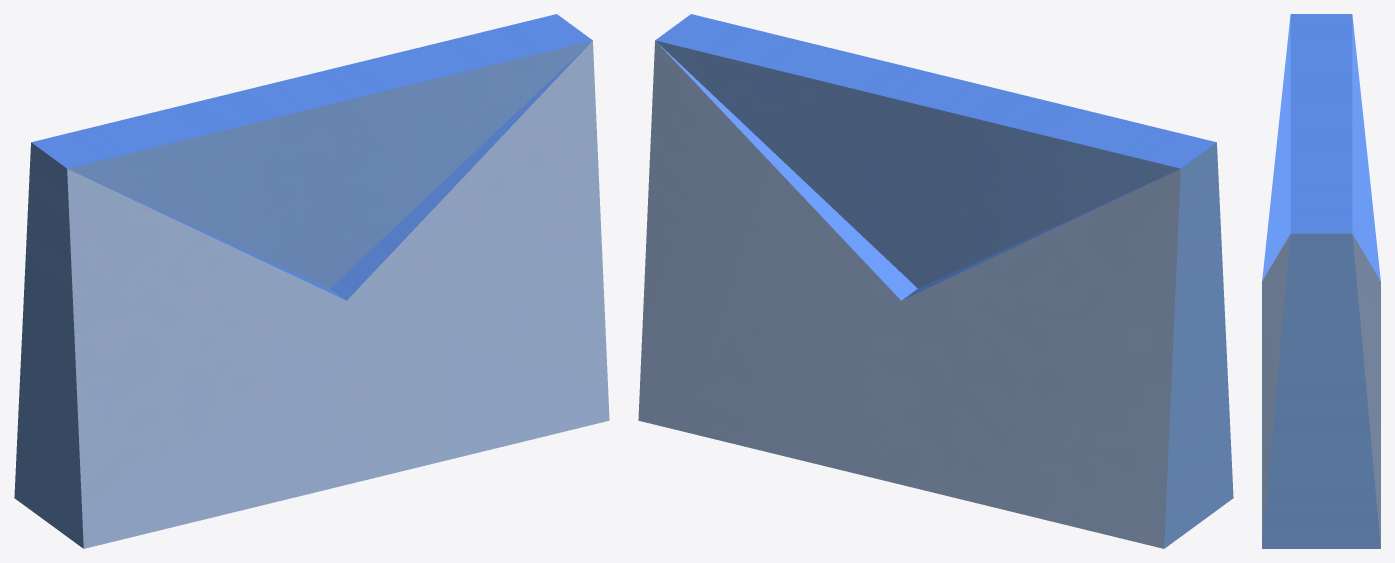
The model's file is SM_Letter.fbx.
The picture shows the model from 3 angles, left to right: view 1: azimuth 30°, elevation 25°; view 2: azimuth 150°, elevation 25°; view 3: azimuth 270°, elevation 25°; orthographic projection. The views are drawn at different scales.
Visible parts, largest first — view 1: SM_Letter; view 2: SM_Letter; view 3: SM_Letter.
Boxes of the visible parts, x1=… form: SM_Letter: x1=14, y1=14, x2=609, y2=548; SM_Letter: x1=638, y1=14, x2=1233, y2=548; SM_Letter: x1=1262, y1=14, x2=1380, y2=548.
Size of the model in its own units: 26.95 by 18.03 by 6.16.
